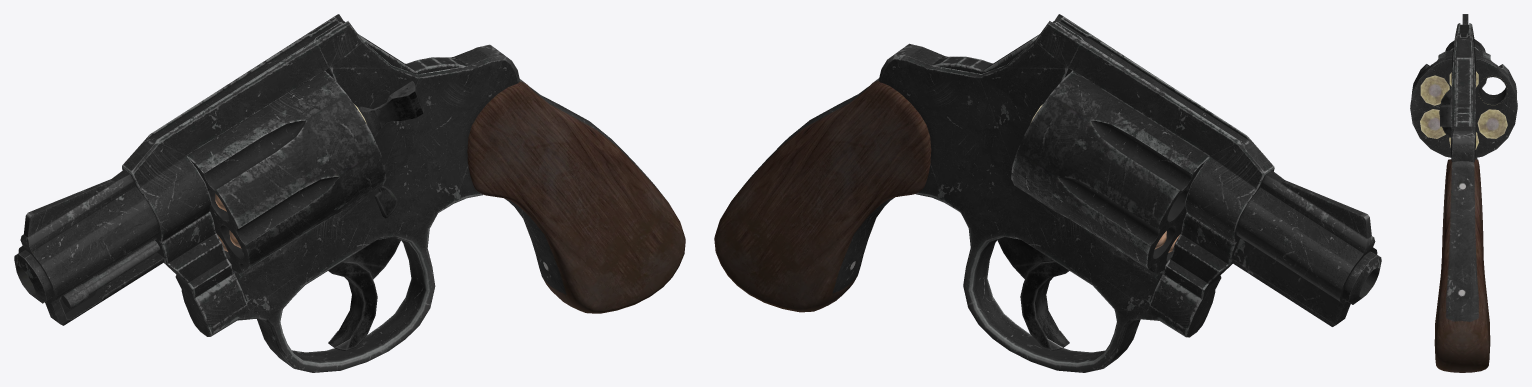
The model's file is gun.glb.
3 renders of one model, left to right at view 1: azimuth 30°, elevation 25°; view 2: azimuth 150°, elevation 25°; view 3: azimuth 270°, elevation 25°, orthographic. The views are drawn at different scales.
Visible parts, largest first — view 1: Object_2; view 2: Object_2; view 3: Object_2.
Boxes of the visible parts, <box> form: Object_2: <box>14,14,685,372</box>; Object_2: <box>714,14,1381,372</box>; Object_2: <box>1410,14,1517,372</box>.
Bounding box in the file's own units: 40.25 × 20.54 × 8.26.
Materials: 1 (1 with a texture image).
